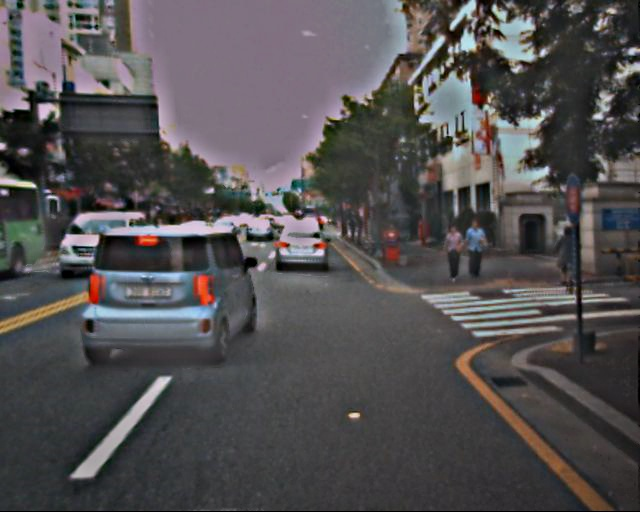person: (554, 225, 581, 290), (462, 218, 489, 283), (442, 224, 467, 286)
